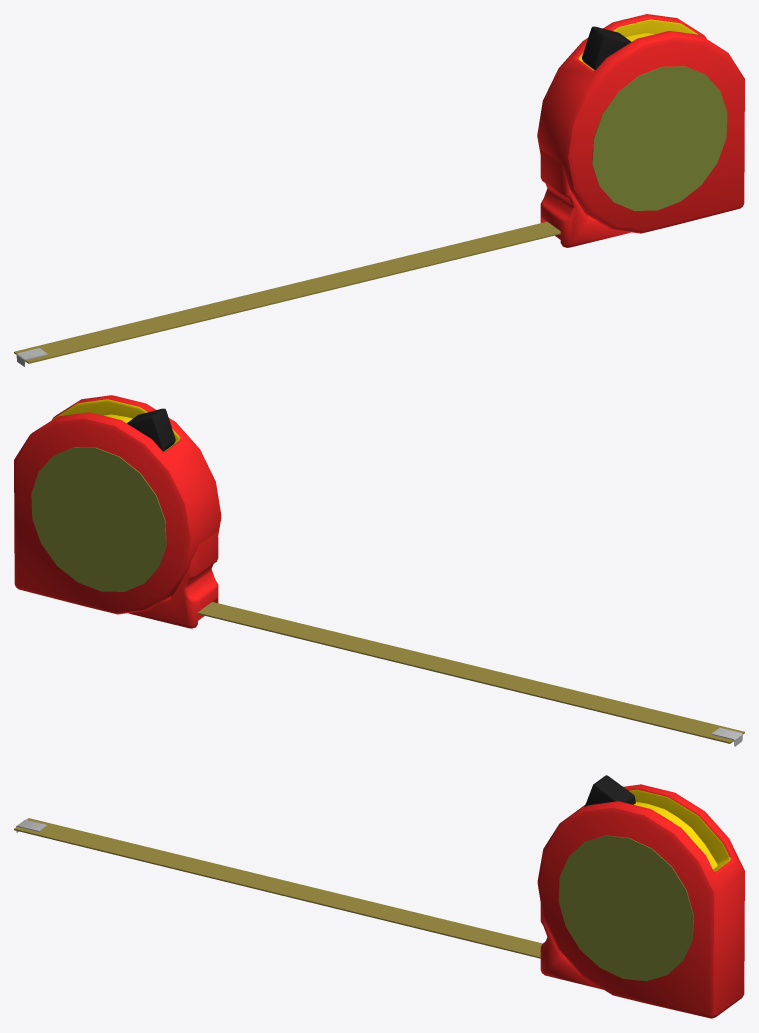
The picture shows the model from 3 angles, top to bottom: view 1: azimuth 30°, elevation 25°; view 2: azimuth 150°, elevation 25°; view 3: azimuth 330°, elevation 25°; orthographic projection.
Parts seen in each view (by area): view 1: Body001_0; view 2: Body001_0; view 3: Body001_0.
Boxes of the visible parts, x1,y1,x2,y2 form: Body001_0: (14, 14, 744, 366); Body001_0: (14, 395, 744, 746); Body001_0: (14, 775, 744, 1018).
Bounding box in the file's own units: 0.2778 × 0.0744 × 0.0232.
6 materials, 2 textured.
